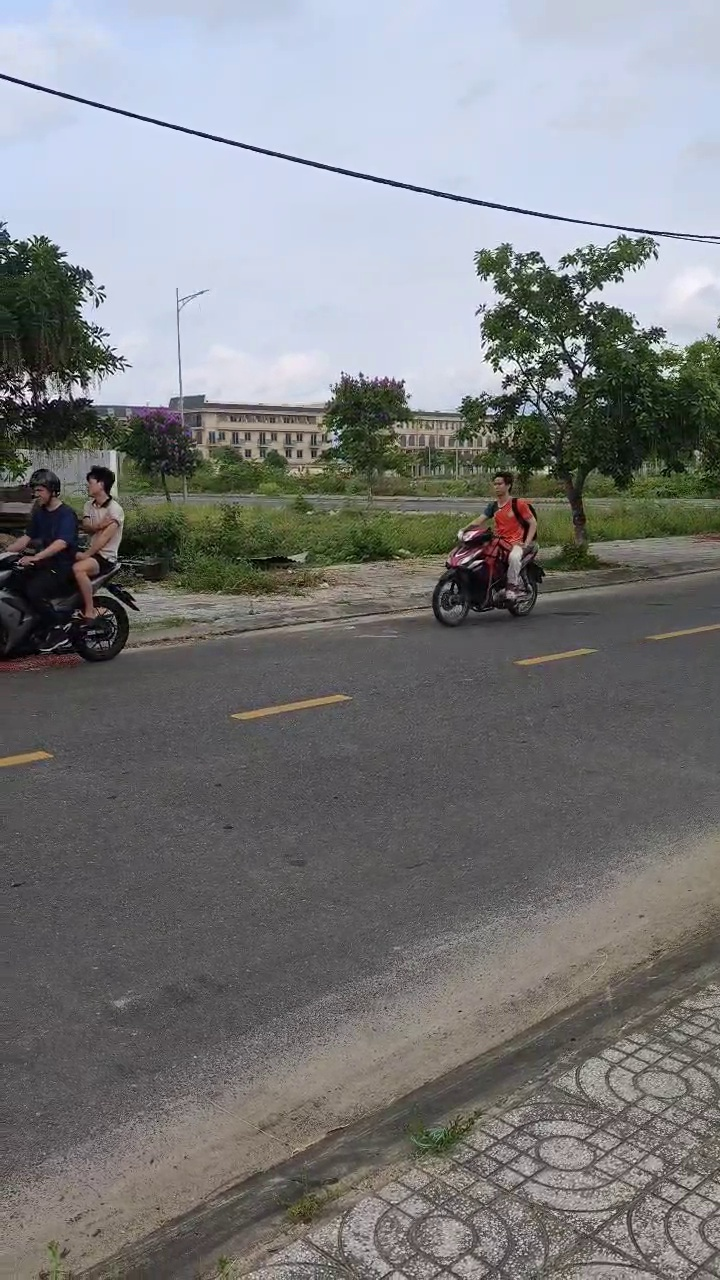helmet: (30, 468, 61, 519)
no_helmet: (85, 466, 117, 517), (493, 471, 511, 506)
